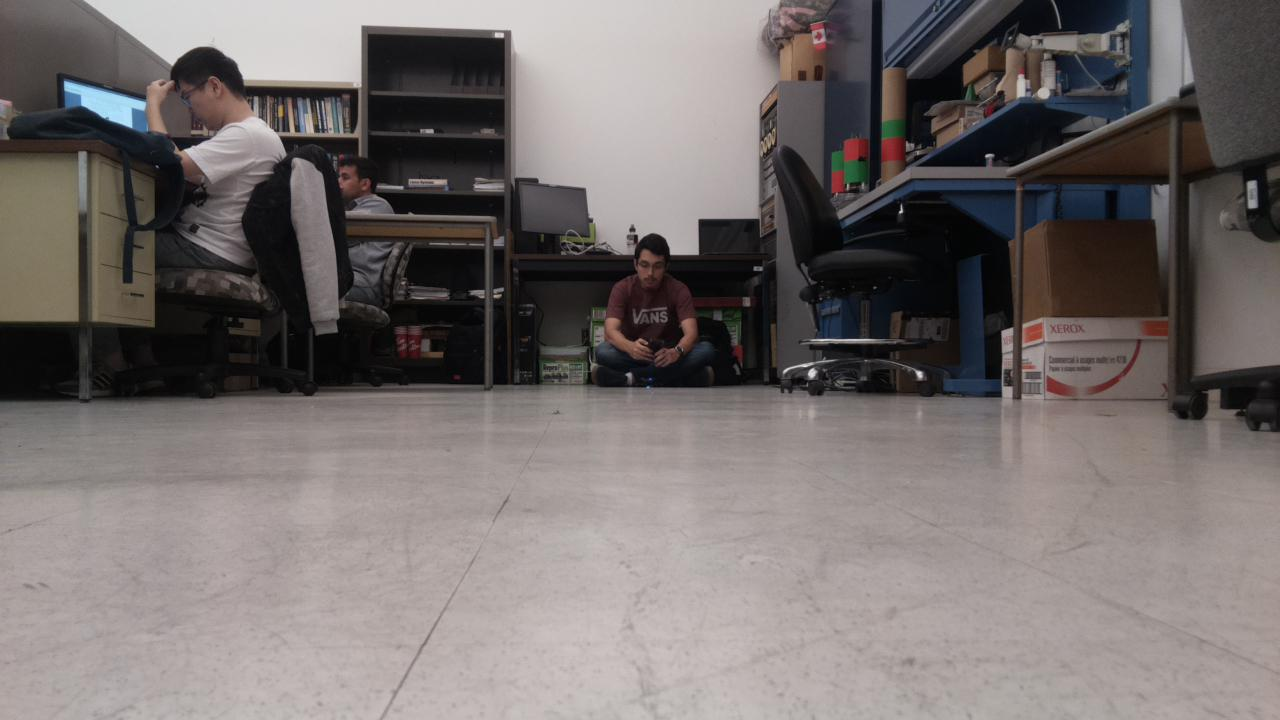person: (145, 48, 287, 277), (589, 232, 717, 387), (338, 157, 396, 307)
tvmonitor: (520, 182, 589, 234), (699, 218, 759, 252)
